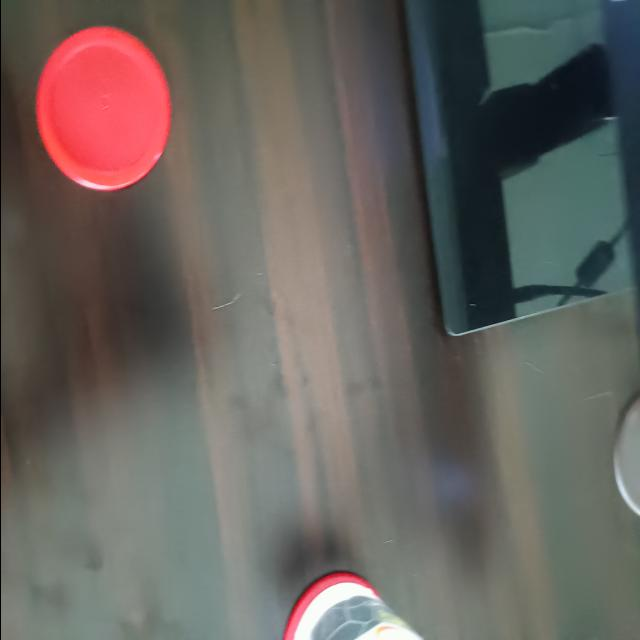chip: (33, 22, 173, 196)
